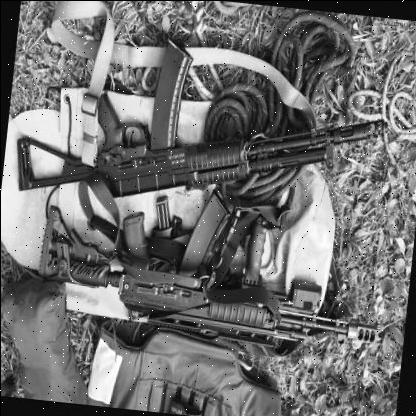rifle: (13, 29, 405, 204), (29, 197, 396, 381)
